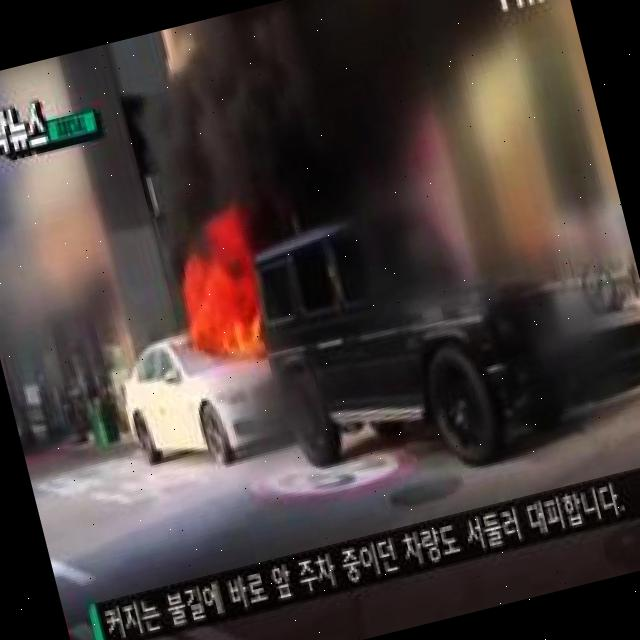fire: (180, 221, 274, 364)
